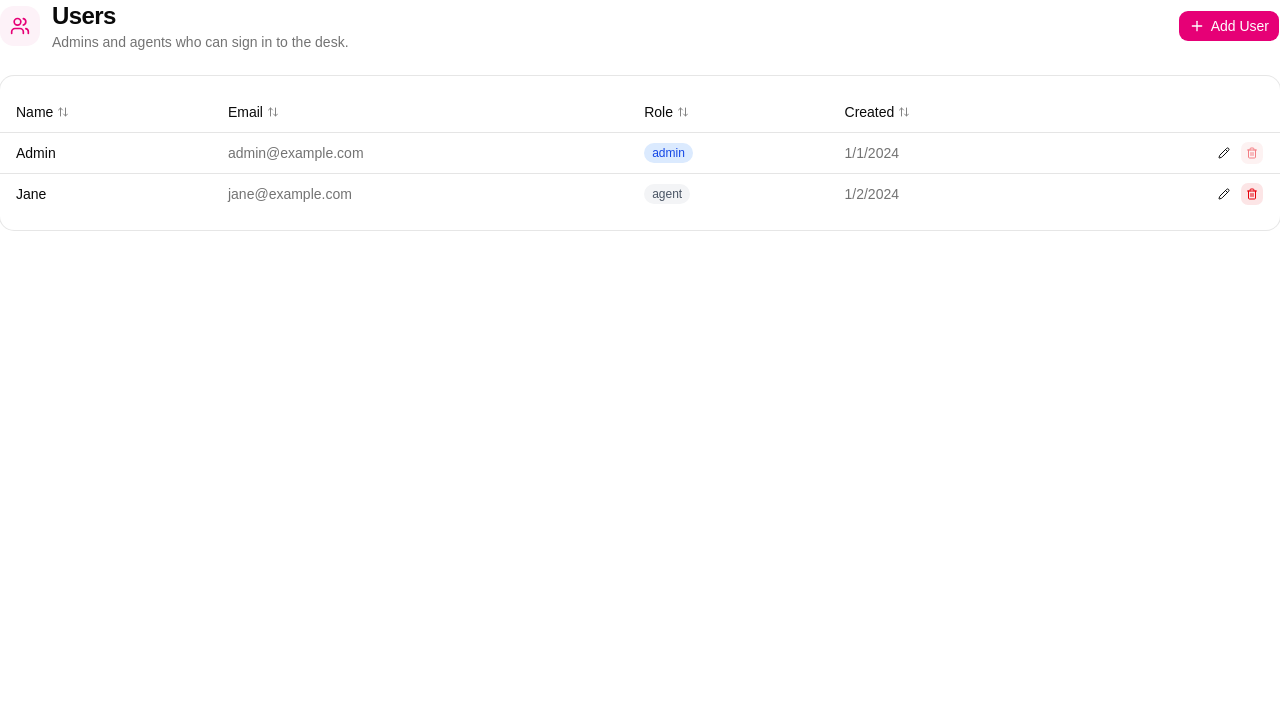
Users page › edit › disables the role select on own row
The image size is (1280, 720).
Expected: the text "Admin" is shown, [16,144,56,160]
Click the button named "edit user" in the row of "admin@example.com".
click(1224, 152)  # box [1212,140,1236,164]
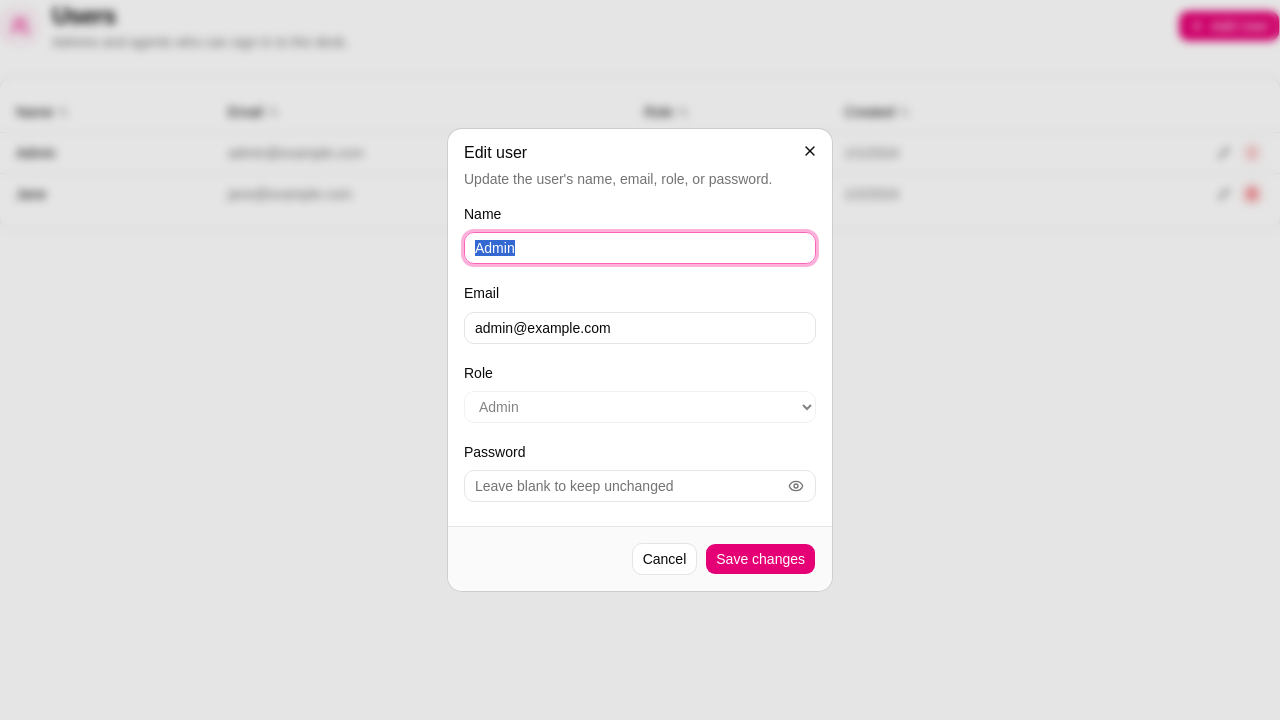
Expected: the dropdown labelled "Role" is disabled, [464,391,816,423]
